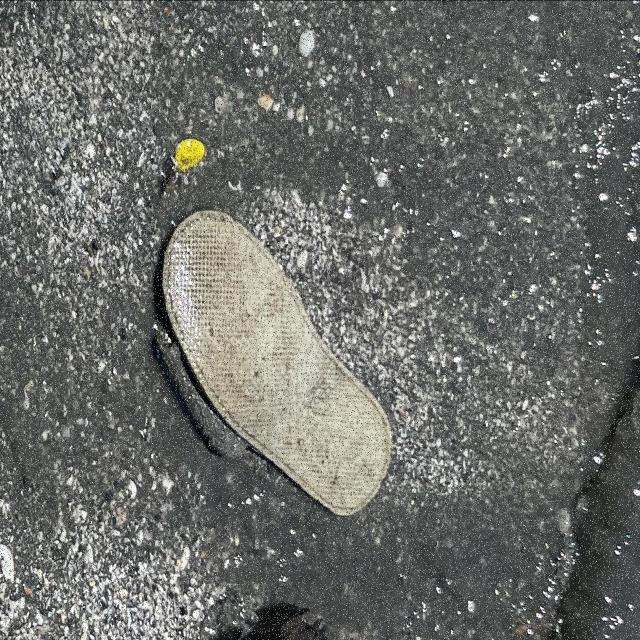rubber_waste: (156, 206, 398, 521)
